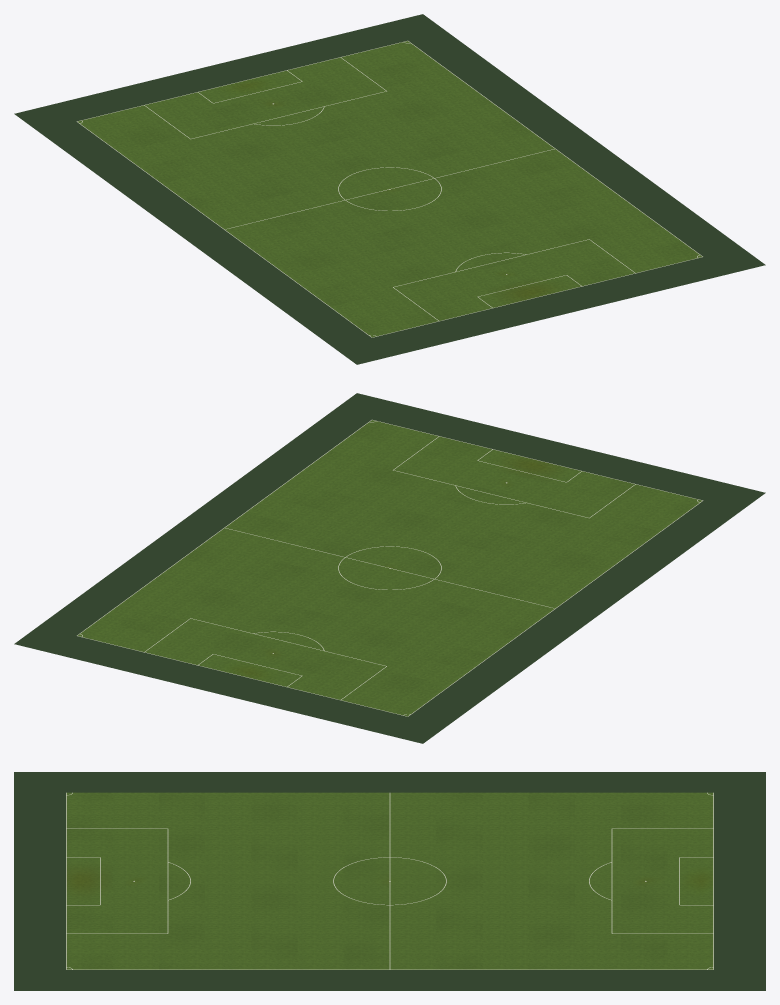
File: pitch.glb
3 renders of one model, top to bottom at view 1: azimuth 30°, elevation 25°; view 2: azimuth 150°, elevation 25°; view 3: azimuth 270°, elevation 25°, orthographic. The views are drawn at different scales.
Visible parts, largest first — view 1: pitch_surface, runoff, regulation_field_lines; view 2: pitch_surface, runoff, regulation_field_lines; view 3: pitch_surface, runoff, regulation_field_lines.
Boxes of the visible parts, x1,y1,x2,y2 form: pitch_surface: (78, 41, 702, 337); runoff: (14, 14, 765, 364); regulation_field_lines: (76, 40, 702, 337); pitch_surface: (77, 420, 701, 716); runoff: (14, 393, 765, 743); regulation_field_lines: (77, 419, 703, 716); pitch_surface: (66, 792, 713, 969); runoff: (14, 772, 765, 990); regulation_field_lines: (66, 792, 713, 969).
Bounding box in the file's own units: 84 × 0.0466 × 122.
Materials: 3 (1 with a texture image).
